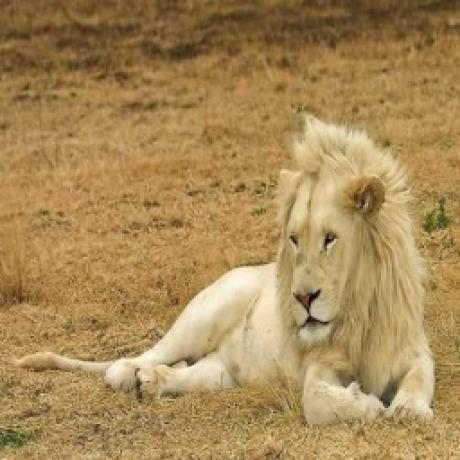Lion: (18, 119, 438, 430)
